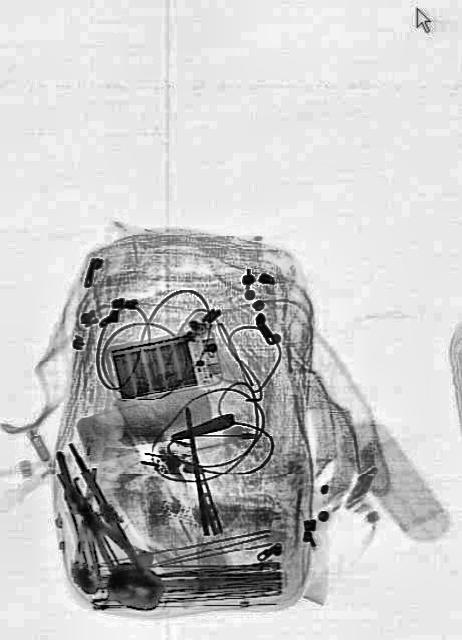Pliers: (41, 457, 146, 603)
